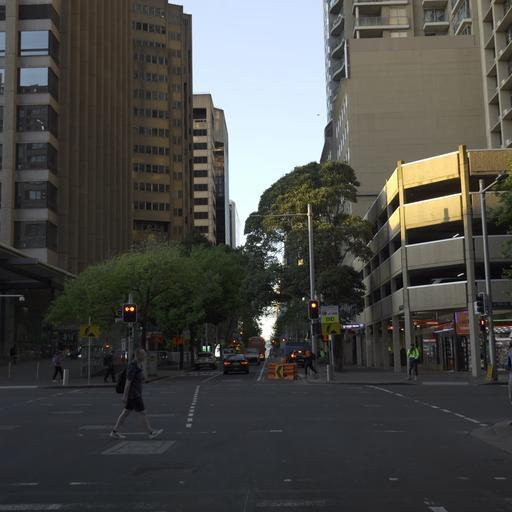Street light: (251, 203, 318, 361), (477, 168, 510, 381), (0, 292, 25, 380), (0, 293, 25, 302)
